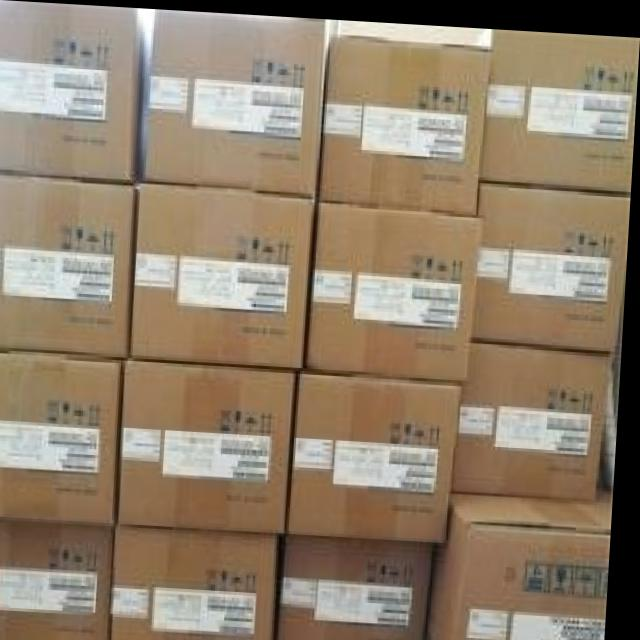box: (143, 8, 337, 191), (137, 184, 319, 365), (308, 195, 484, 376), (322, 32, 488, 210), (125, 363, 302, 529), (434, 478, 615, 640), (292, 366, 465, 535), (0, 3, 155, 181), (476, 173, 632, 345), (478, 24, 638, 187), (460, 333, 617, 495), (0, 175, 138, 358), (0, 353, 126, 526), (118, 526, 285, 640), (283, 528, 443, 640), (0, 516, 121, 640)
